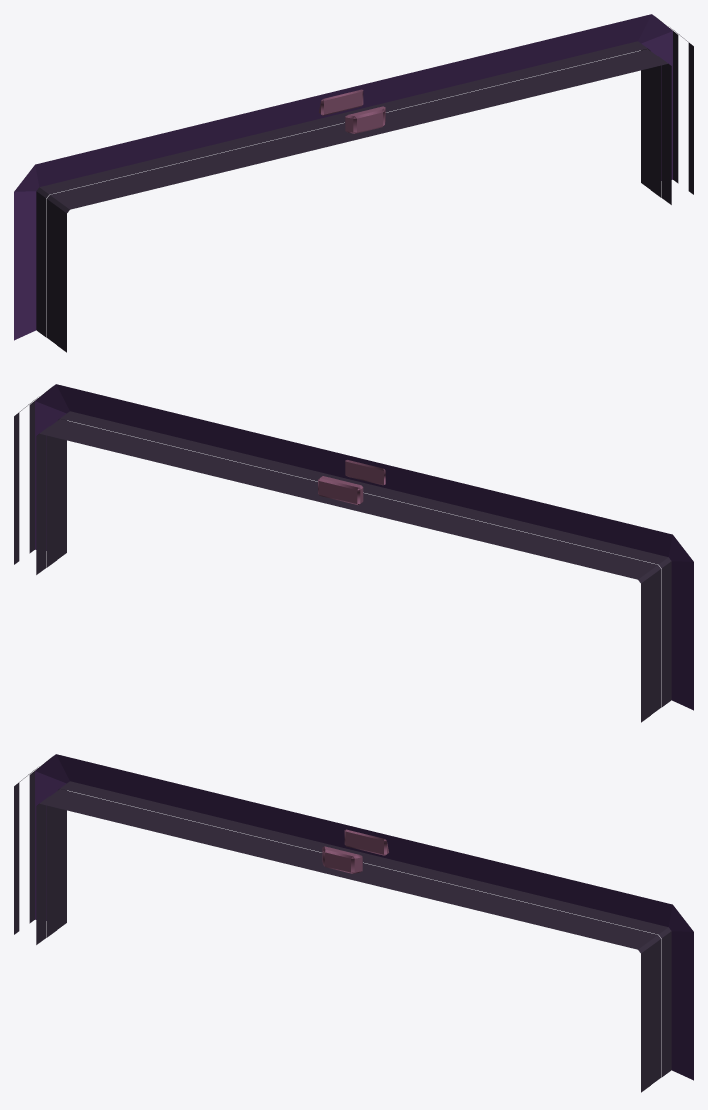
File: SM_SB_Kit_AlienPortal_2000x450.fbx
3 views of the same model, one above another, from view 1: azimuth 30°, elevation 25°; view 2: azimuth 150°, elevation 25°; view 3: azimuth 330°, elevation 25° (orthographic).
Visible parts, largest first — view 1: SM_SB_Kit_AlienPortal_2000x450; view 2: SM_SB_Kit_AlienPortal_2000x450; view 3: SM_SB_Kit_AlienPortal_2000x450.
Part boxes in pixels (x1,y1,x2,y2): SM_SB_Kit_AlienPortal_2000x450: (14,14,693,352); SM_SB_Kit_AlienPortal_2000x450: (14,384,693,722); SM_SB_Kit_AlienPortal_2000x450: (14,754,693,1092).
Size of the model in its own units: 2180 by 182 by 540.
